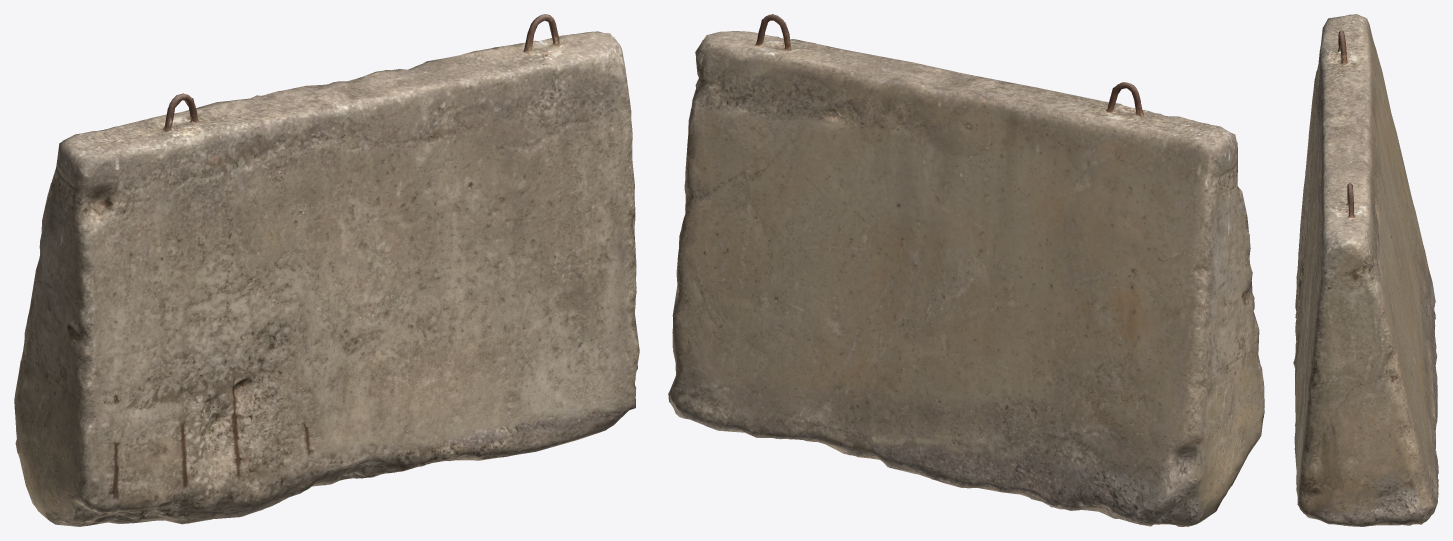
File: concrete_road_barrier_02.glb
The picture shows the model from 3 angles, left to right: view 1: azimuth 30°, elevation 25°; view 2: azimuth 150°, elevation 25°; view 3: azimuth 270°, elevation 25°; orthographic projection. The views are drawn at different scales.
Bounding box in the file's own units: 1.57 × 1.11 × 0.4422.
1 material, 1 textured.
